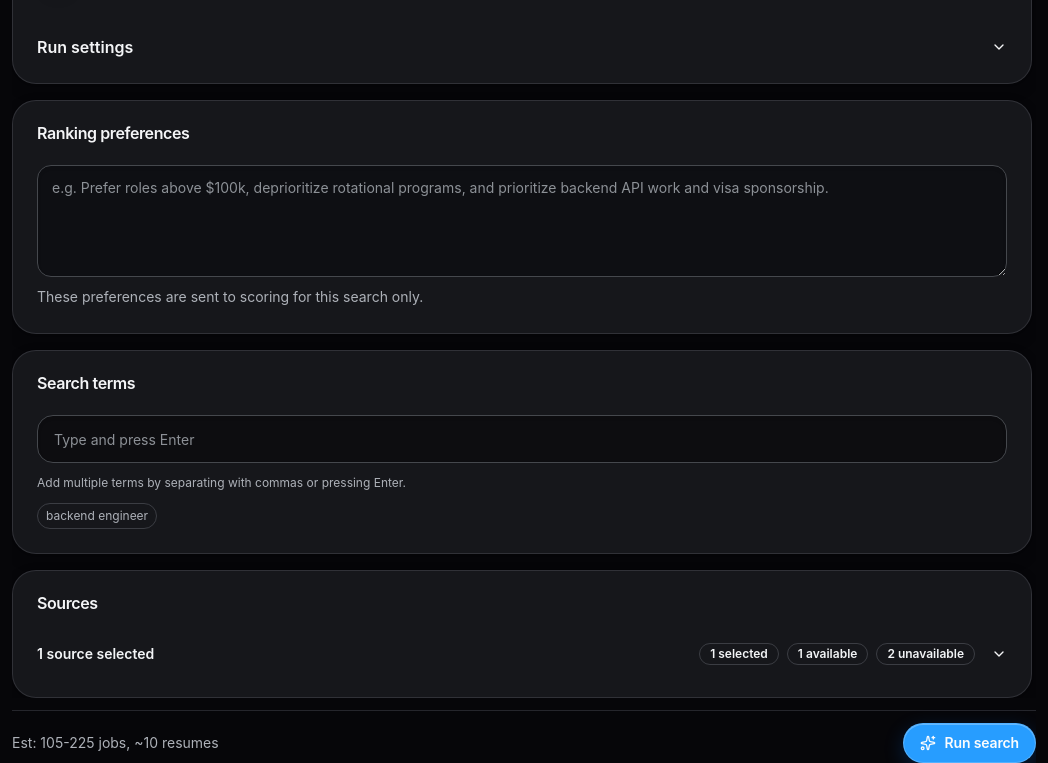
Test case: AutomaticRunTab › disables and prunes UK-only sources for non-UK country
(page scrolled)
Click the button with aria-label "Review and edit sources" at coordinates (96, 654), box [37,635,1007,673]
(page scrolled)
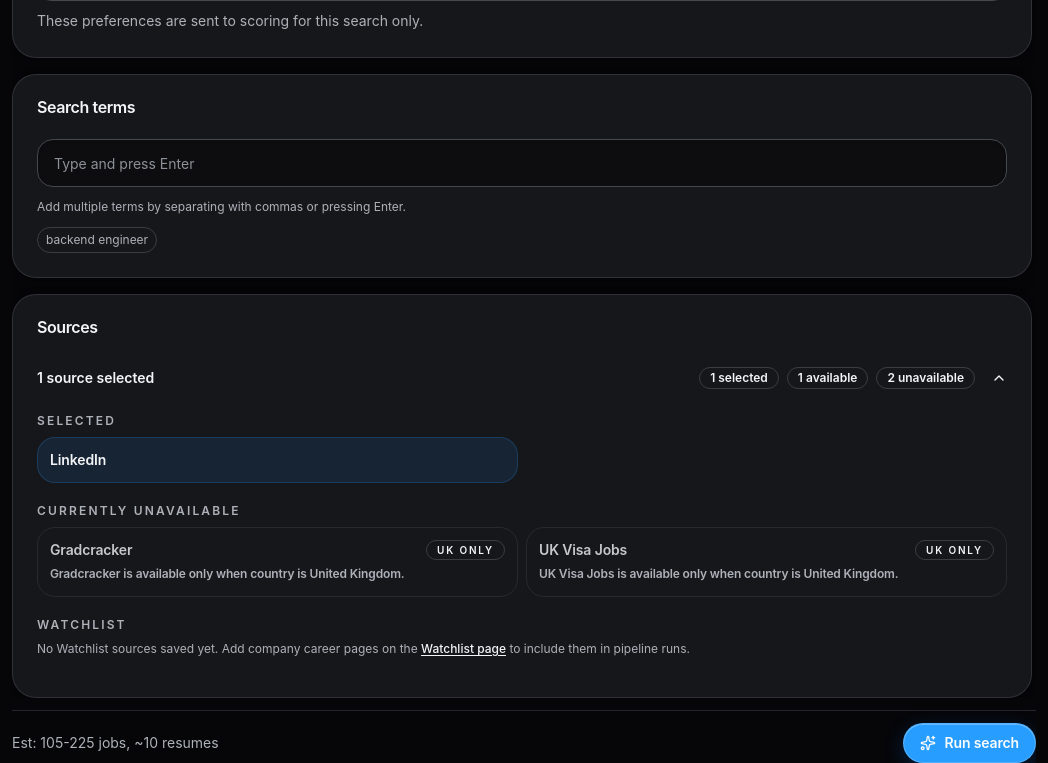
Now the button "Gradcracker" is disabled, box [37,527,518,597]
Now the button "UK Visa Jobs" is disabled, box [526,527,1007,597]
